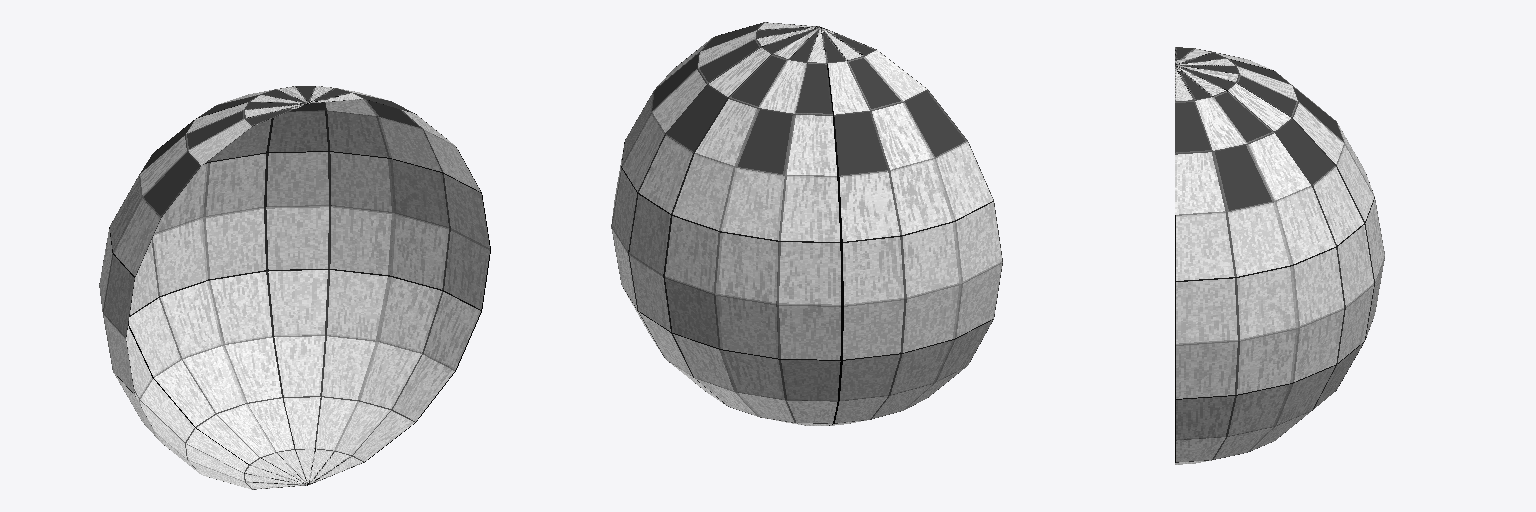
3 renders of one model, left to right at view 1: azimuth 30°, elevation 25°; view 2: azimuth 150°, elevation 25°; view 3: azimuth 270°, elevation 25°, orthographic.
Visible parts, largest first — view 1: default; view 2: default; view 3: default.
Boxes of the visible parts, x1,y1,x2,y2 form: default: [99, 86, 490, 489]; default: [611, 22, 1002, 425]; default: [1175, 47, 1384, 464].
Size of the model in its own units: 1 by 1 by 0.5.
1 materials, 1 textured.